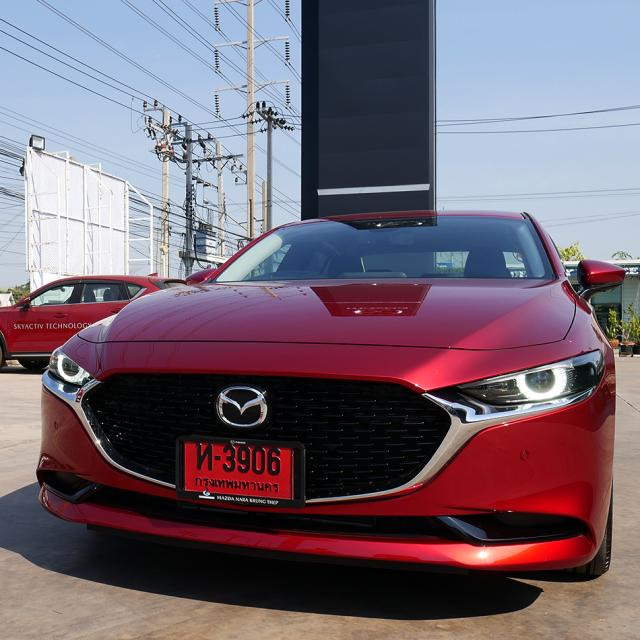license_plate: (175, 432, 307, 511)
